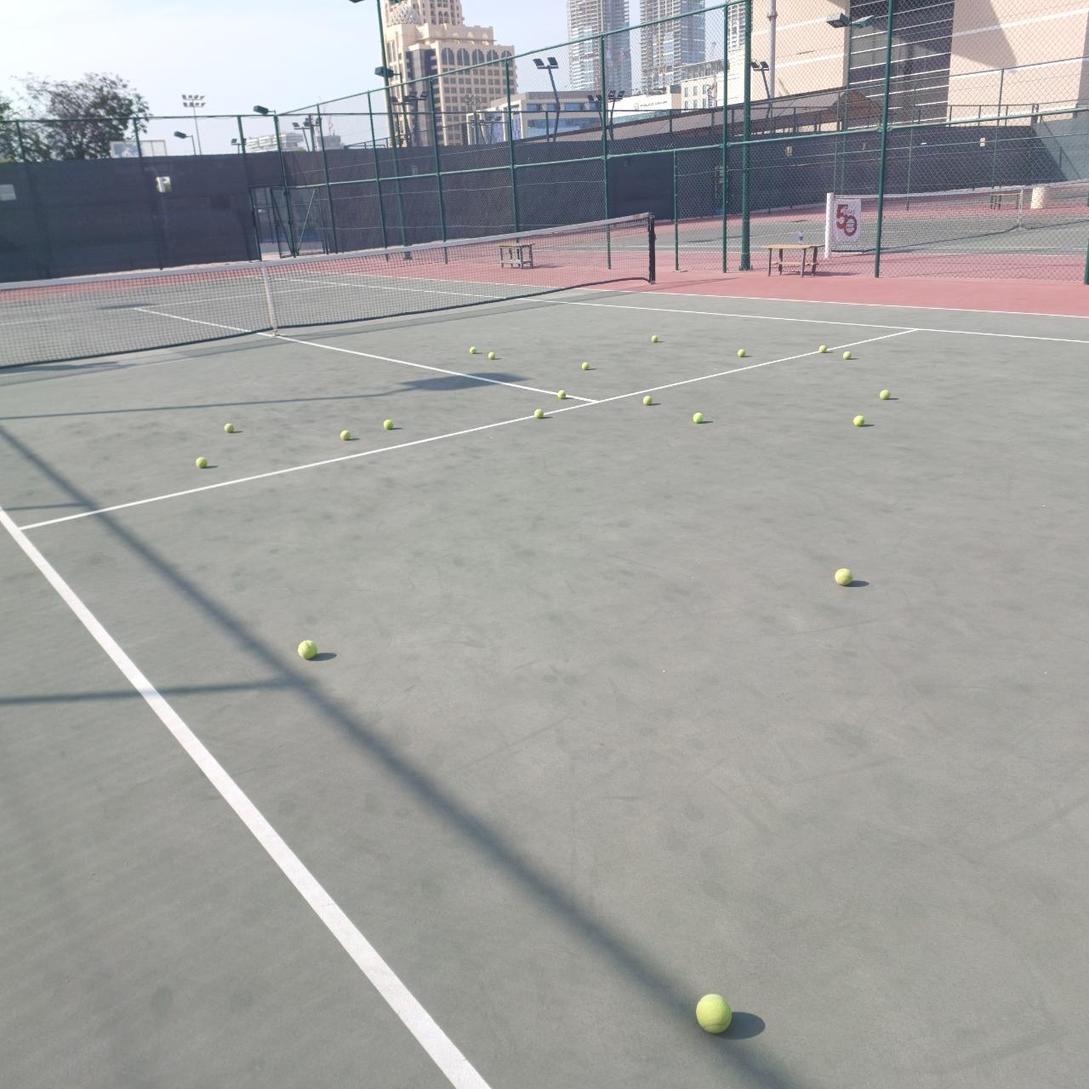tennis-ball: (693, 991, 732, 1034), (296, 639, 318, 661), (833, 565, 852, 585), (195, 456, 208, 470), (852, 414, 865, 427), (339, 428, 351, 441), (382, 418, 394, 430), (692, 411, 704, 423), (879, 389, 891, 400), (533, 408, 544, 419), (643, 395, 653, 406), (224, 423, 234, 434), (557, 389, 566, 399), (843, 351, 852, 360), (737, 348, 746, 357), (819, 345, 828, 353), (651, 334, 659, 343), (488, 352, 496, 360), (581, 362, 589, 370), (469, 347, 477, 354)
